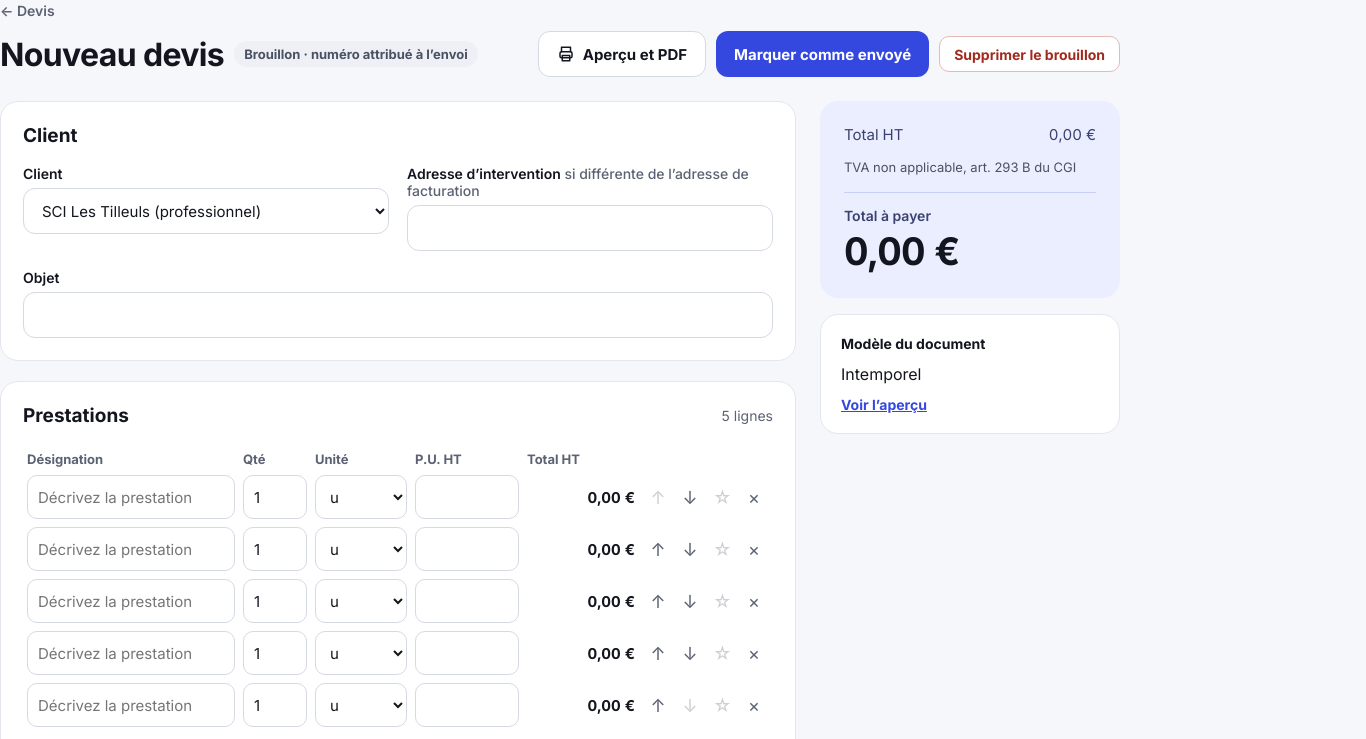
Scenario: demande confirmation avant de quitter quand un champ est invalide
Expected: the button "Marquer comme envoyé" is shown, [716,31,929,77]
Type "12,345" into the 1st field named "Prix unitaire HT en euros" at (467, 497), box [415,475,519,519]
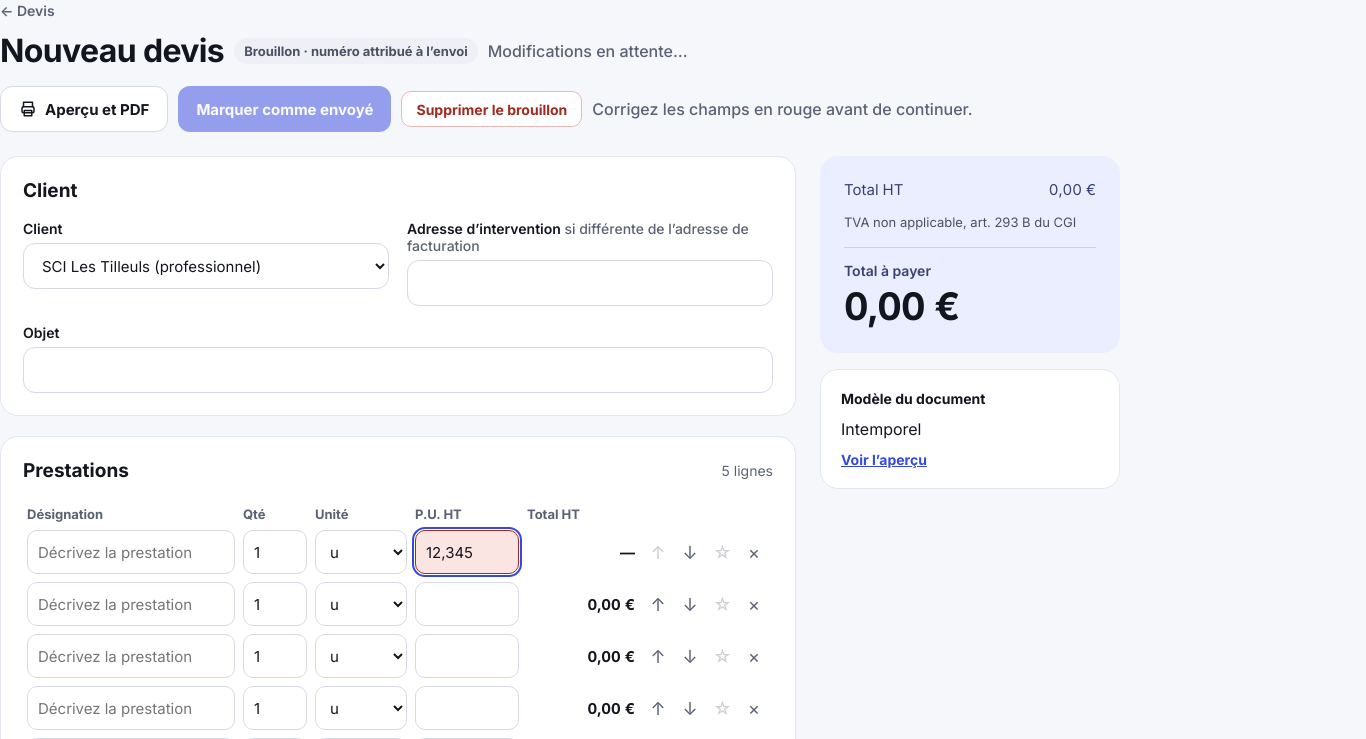
Click the link "← Devis" at (27, 10), box [0,2,55,19]
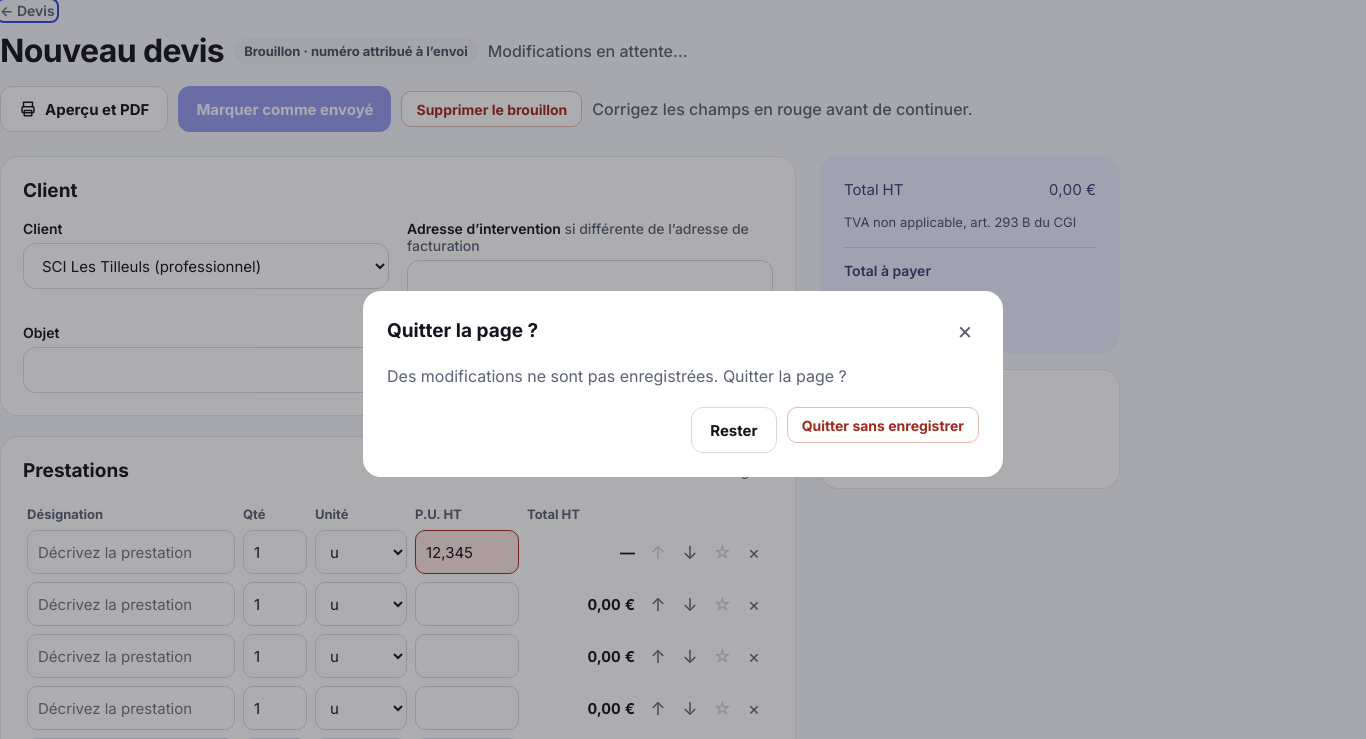
Result: the dialog "Quitter la page ?" is shown at [363,291,1003,477]
